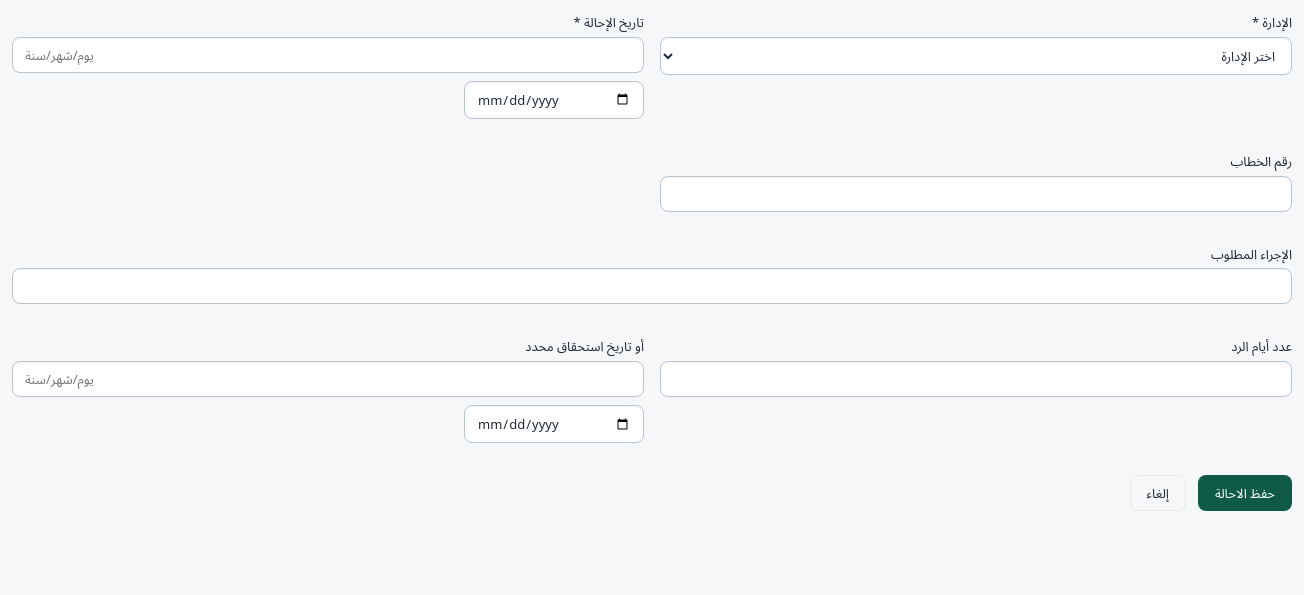
Test case: AssignmentFormPanel dirty state › requires assignedDate before saving
Select "إدارة أ" in the dropdown labelled "الإدارة *" at (976, 56), box [660,37,1292,75]
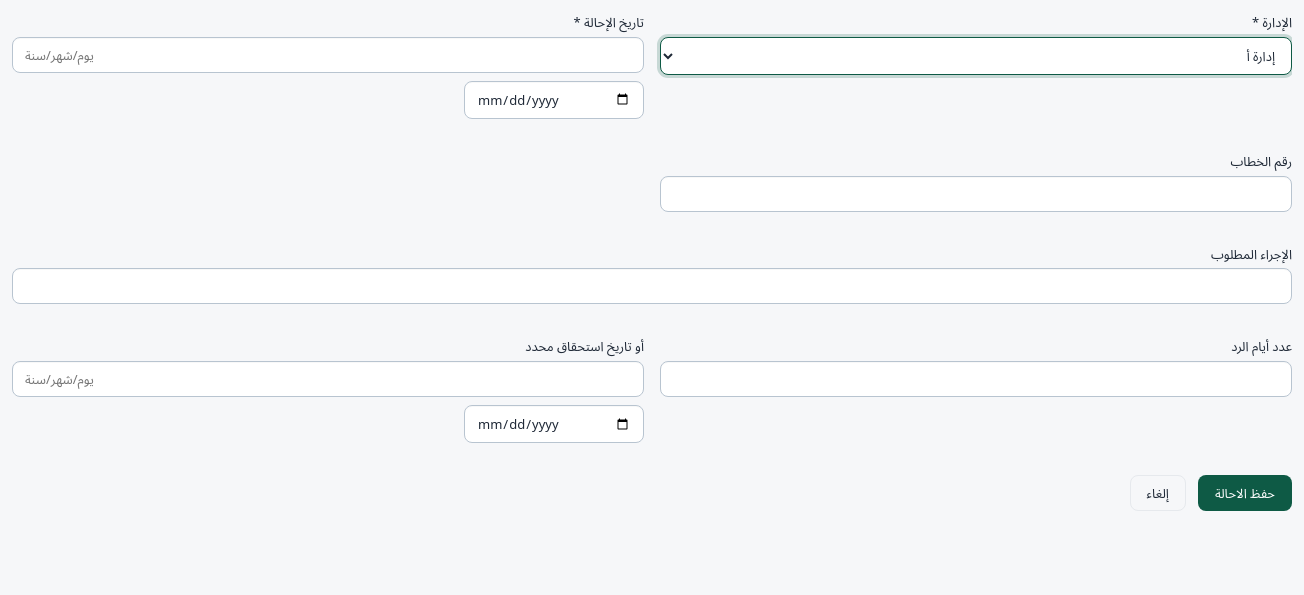
Click the button "حفظ الاحالة" at (1245, 493), box [1198,475,1292,511]
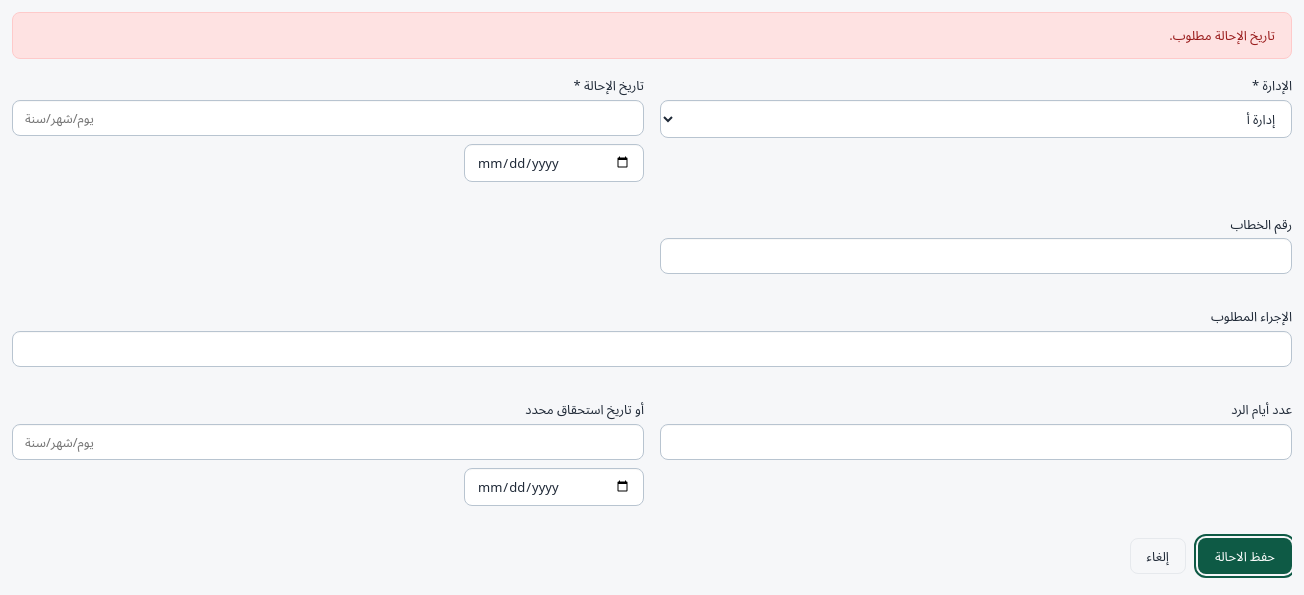
Check: the message reads "تاريخ الإحالة مطلوب.", box [1169,26,1275,44]
